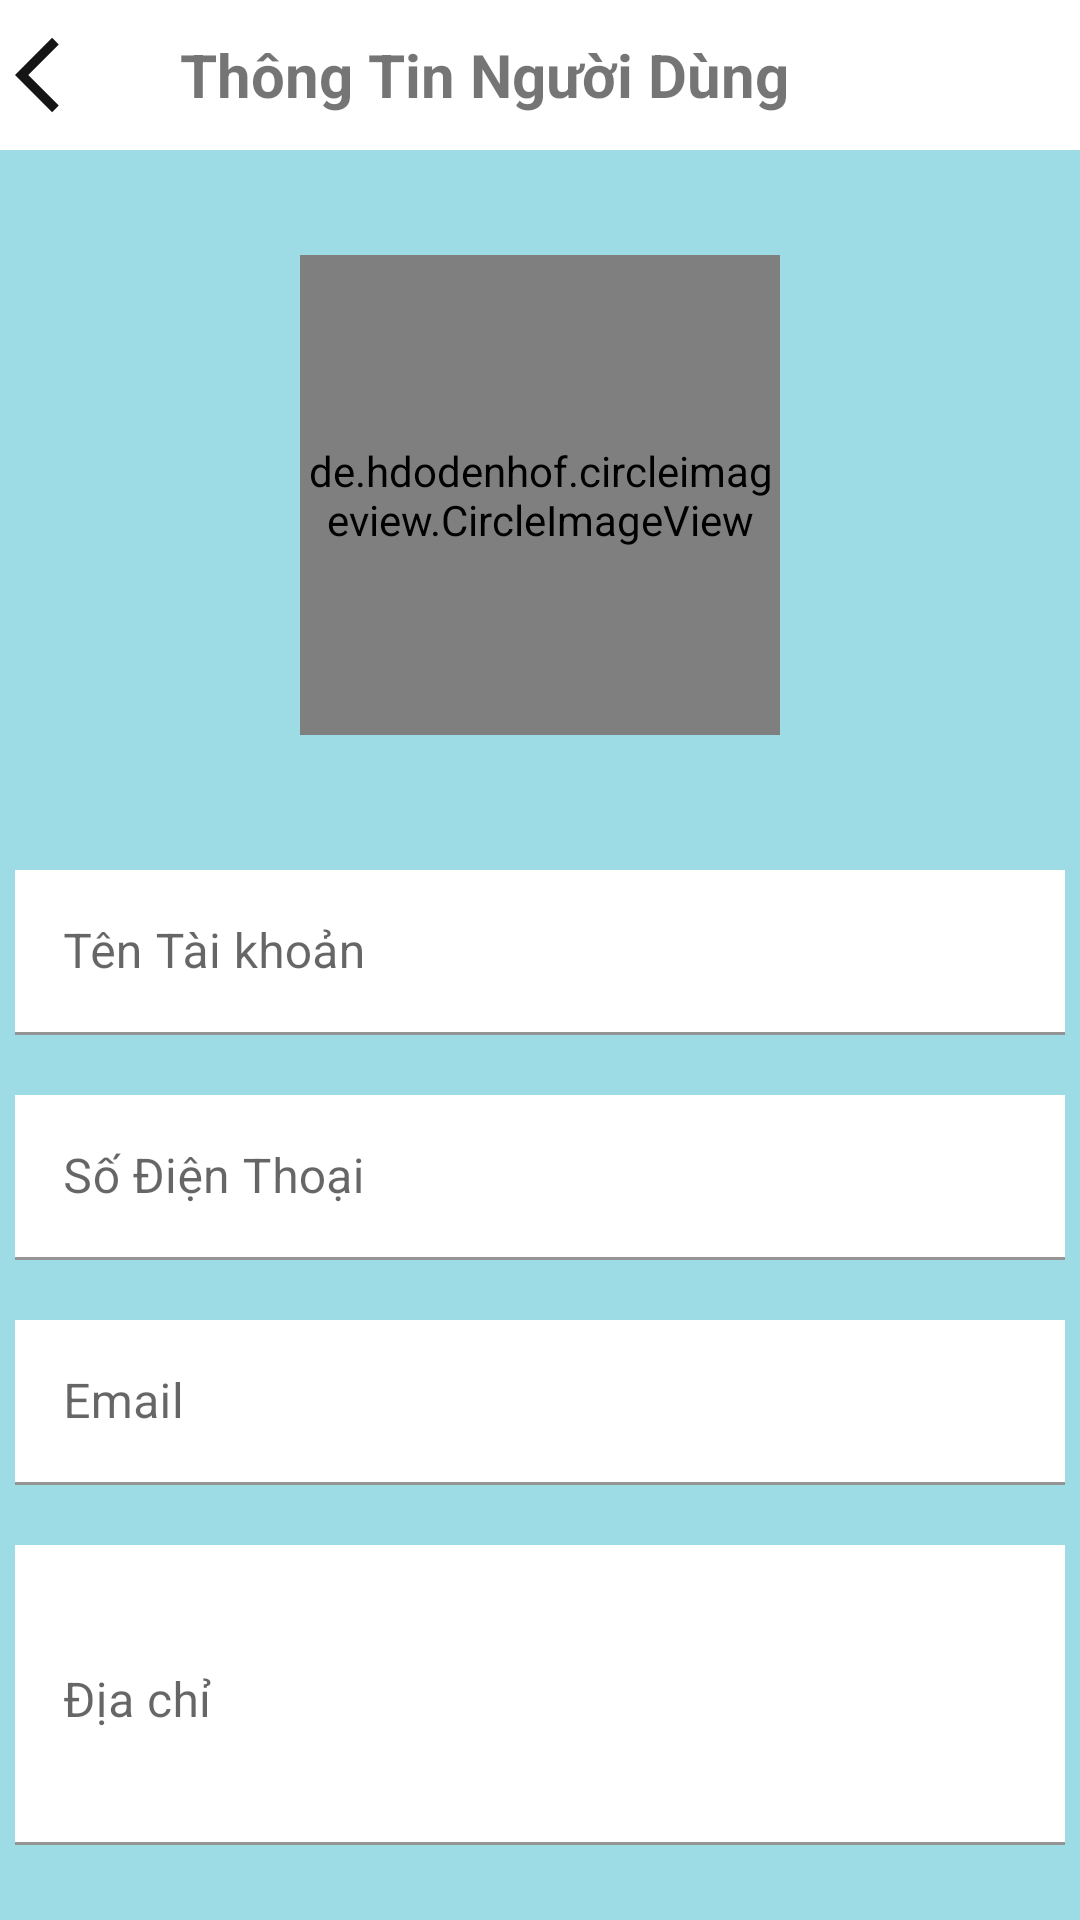

Named icons in this screenshot (1080px×1920px) and their centers, (x,y):
quaylai: (37,75)
